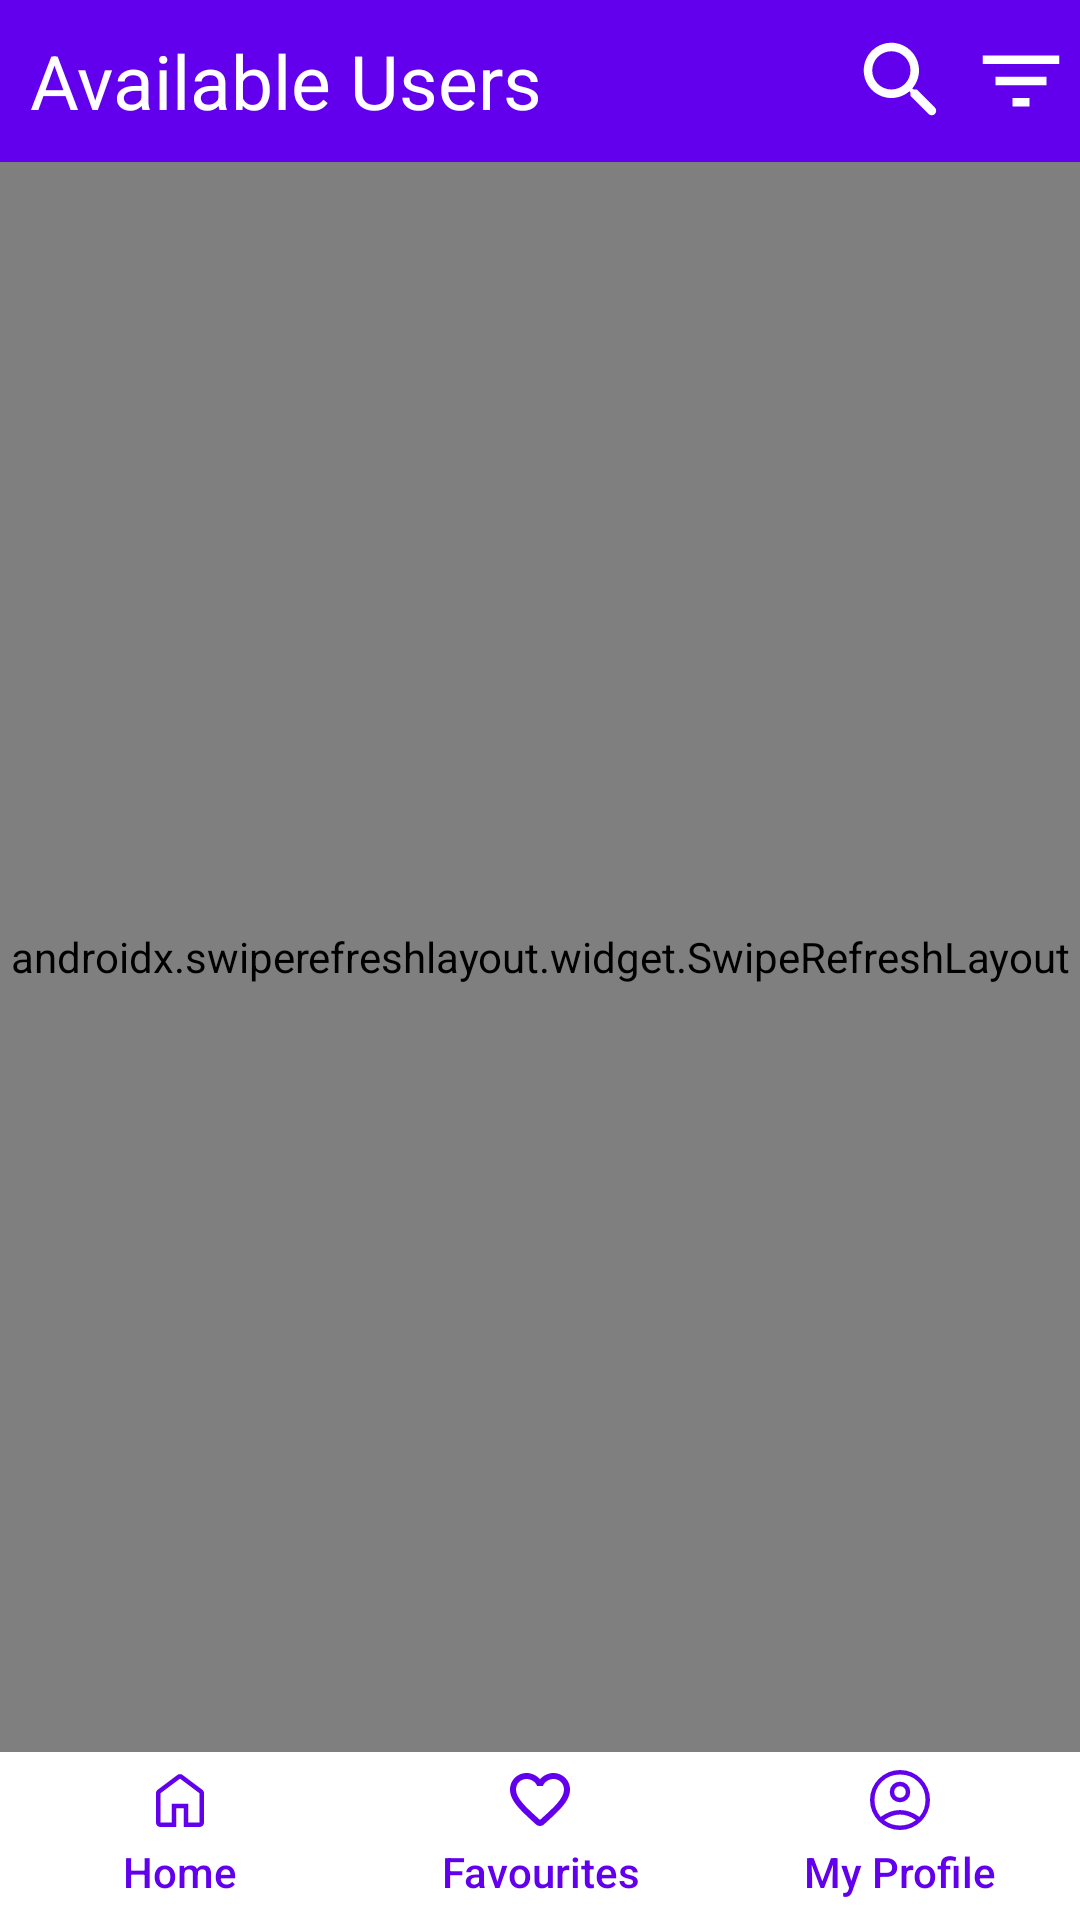

Screen size 1080x1920. Icon name, then its center in pixels as (x,y):
search: (900,79)
sort: (1021,81)
